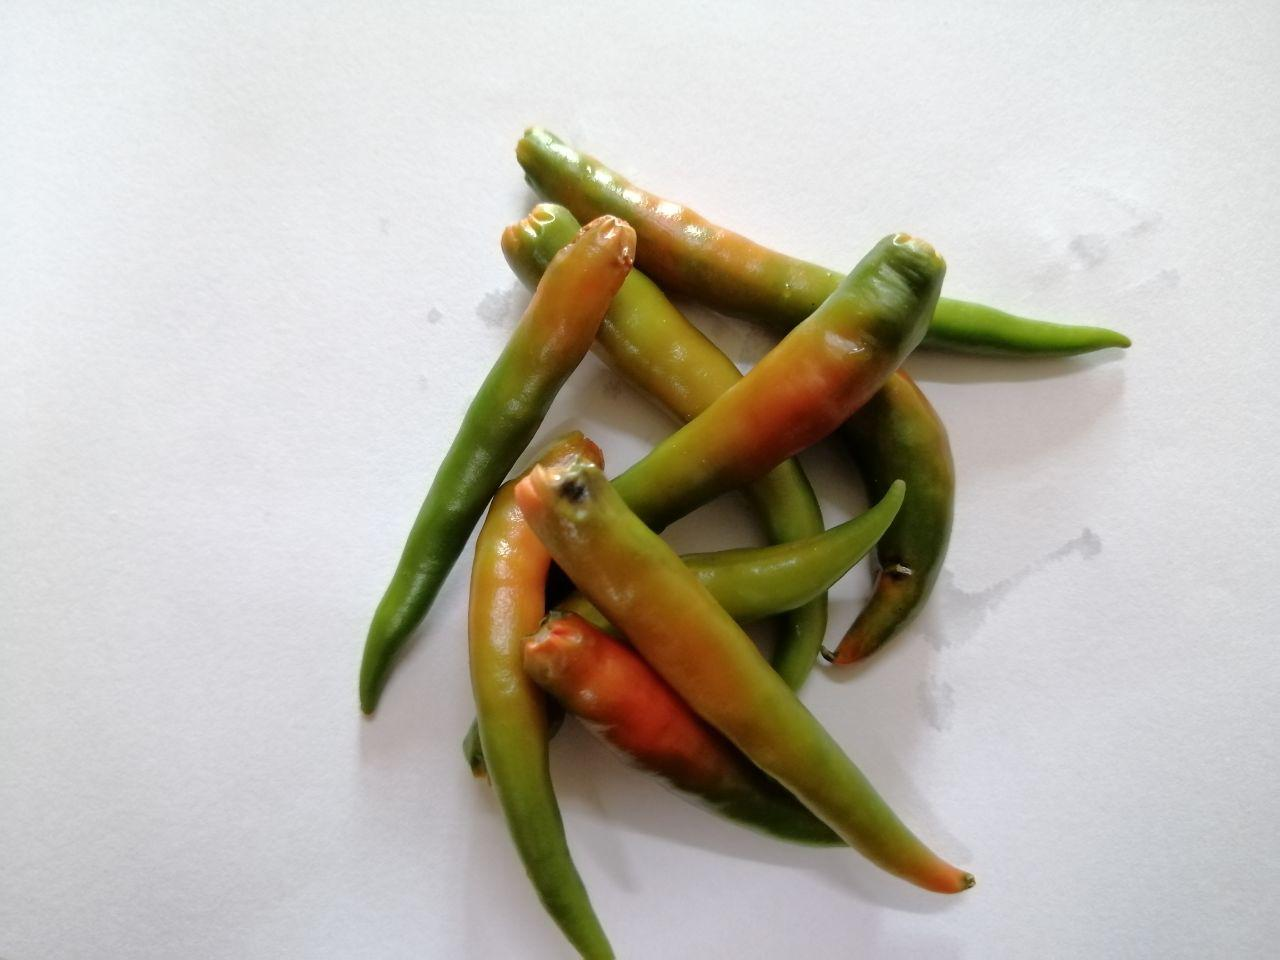lada hijau: (347, 200, 647, 727)
lada kuning: (508, 450, 1002, 912), (491, 99, 1174, 378), (455, 433, 635, 960)
